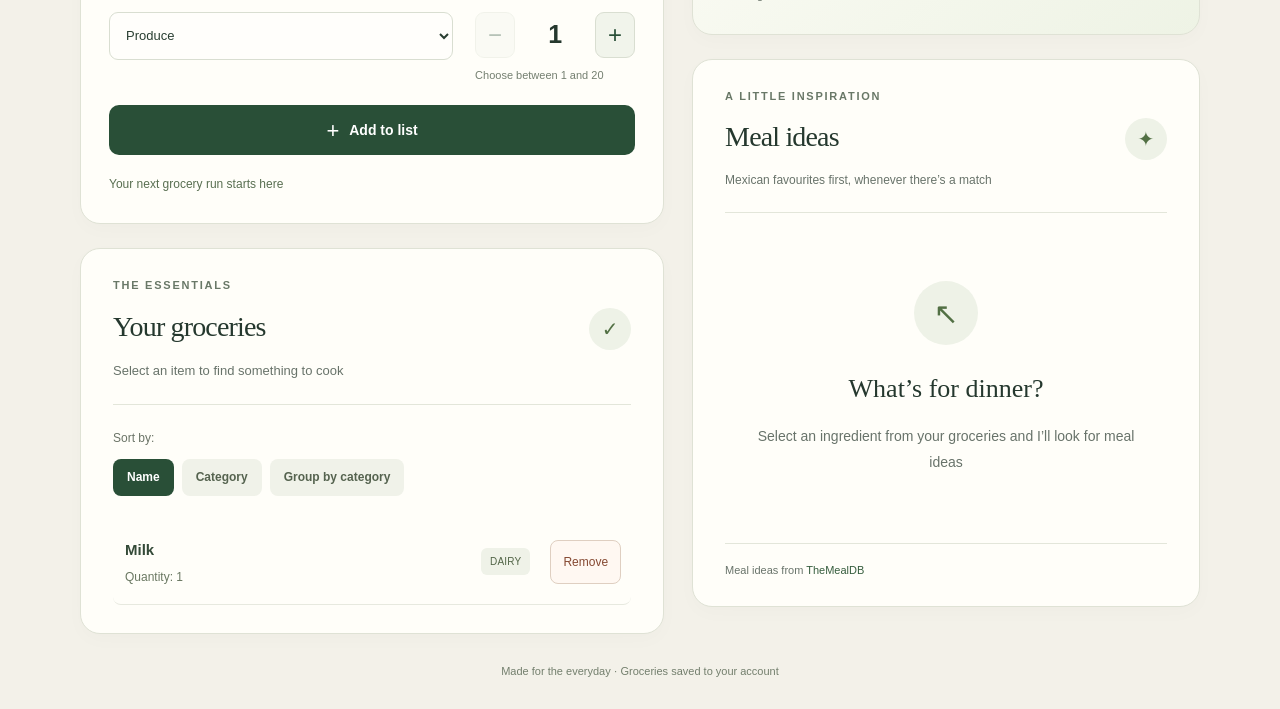
Test case: removing the selected ingredient clears its meal search
(page scrolled)
Expected: the text "Milk" is shown, [125, 541, 154, 558]
Click the button "Milk Quantity: 1 dairy" at (151, 577), box [113, 520, 542, 604]
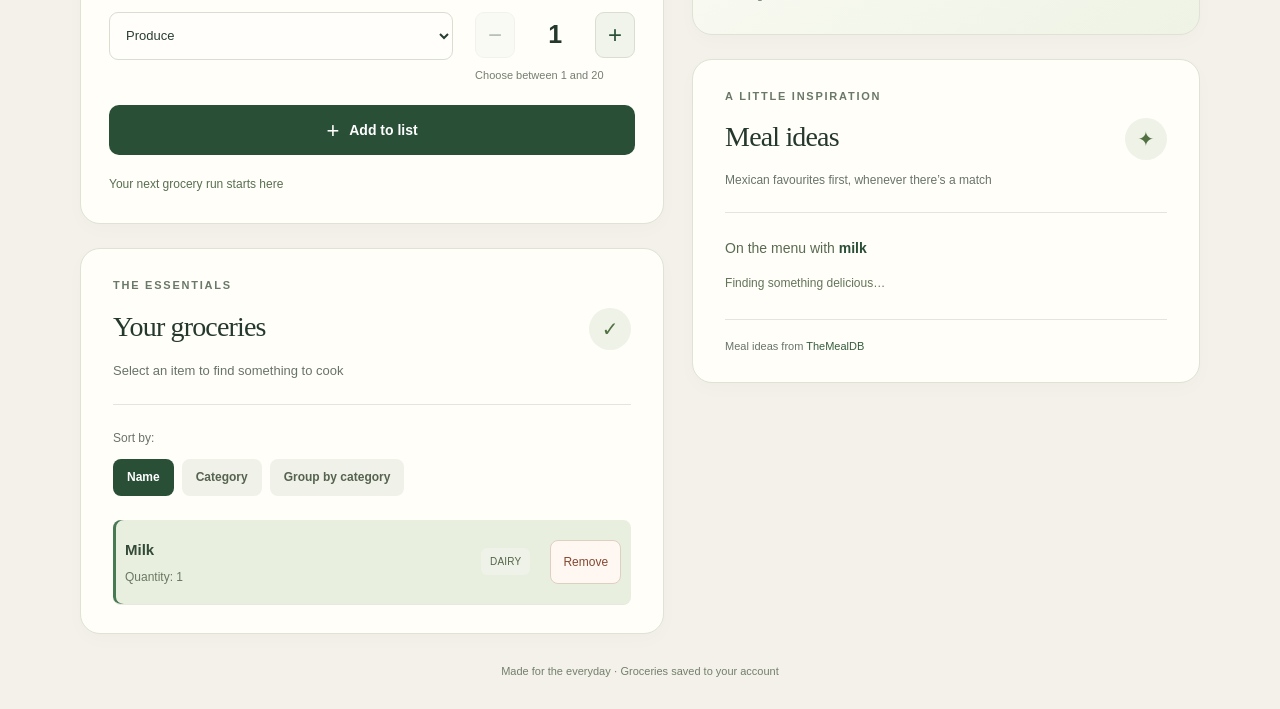
Expected: the text "milk" is shown, [839, 240, 867, 256]
Click the button with aria-label "Remove Milk" at (586, 562), box [550, 540, 621, 584]
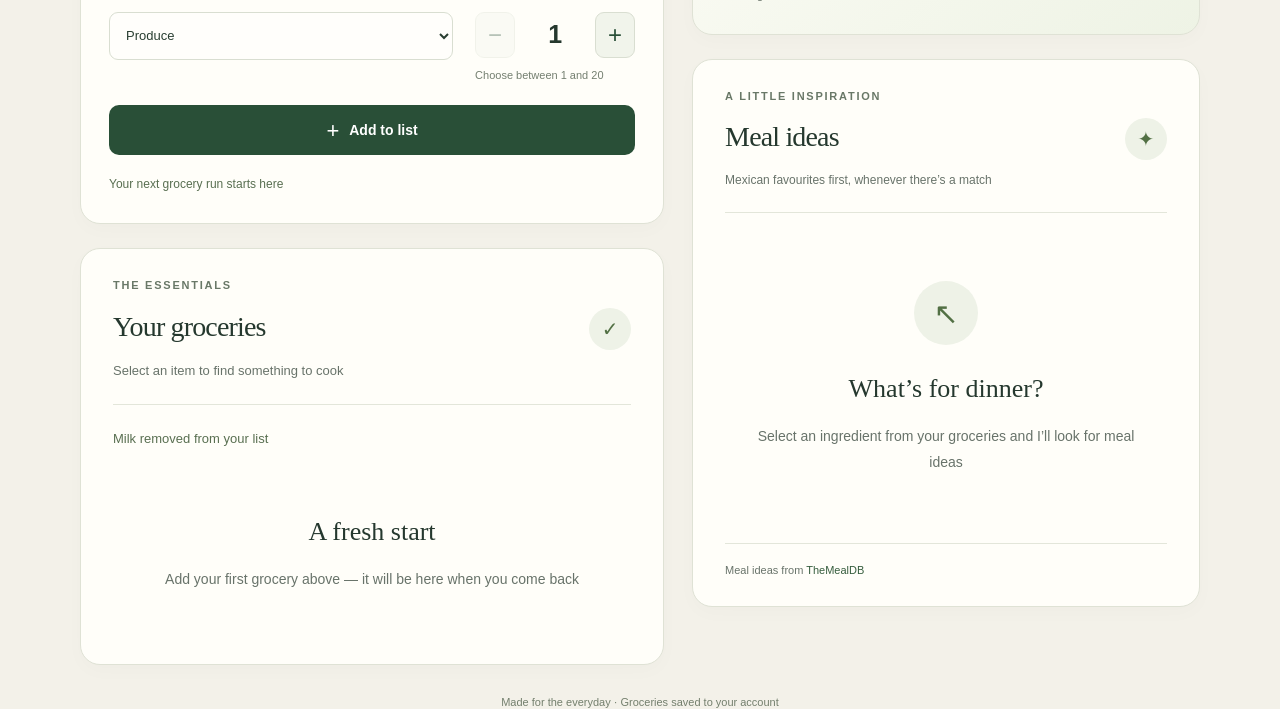
Expected: the text "Milk removed from your list" is shown, [113, 431, 268, 446]
Expected: the heading "What’s for dinner?" is shown, [849, 374, 1044, 404]
